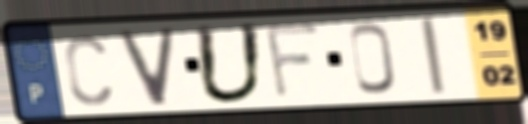0: (347, 20, 399, 96)
C: (61, 32, 115, 108)
F: (262, 21, 324, 102)
I: (415, 14, 449, 97)
U: (191, 21, 268, 106)
V: (115, 24, 179, 108)
